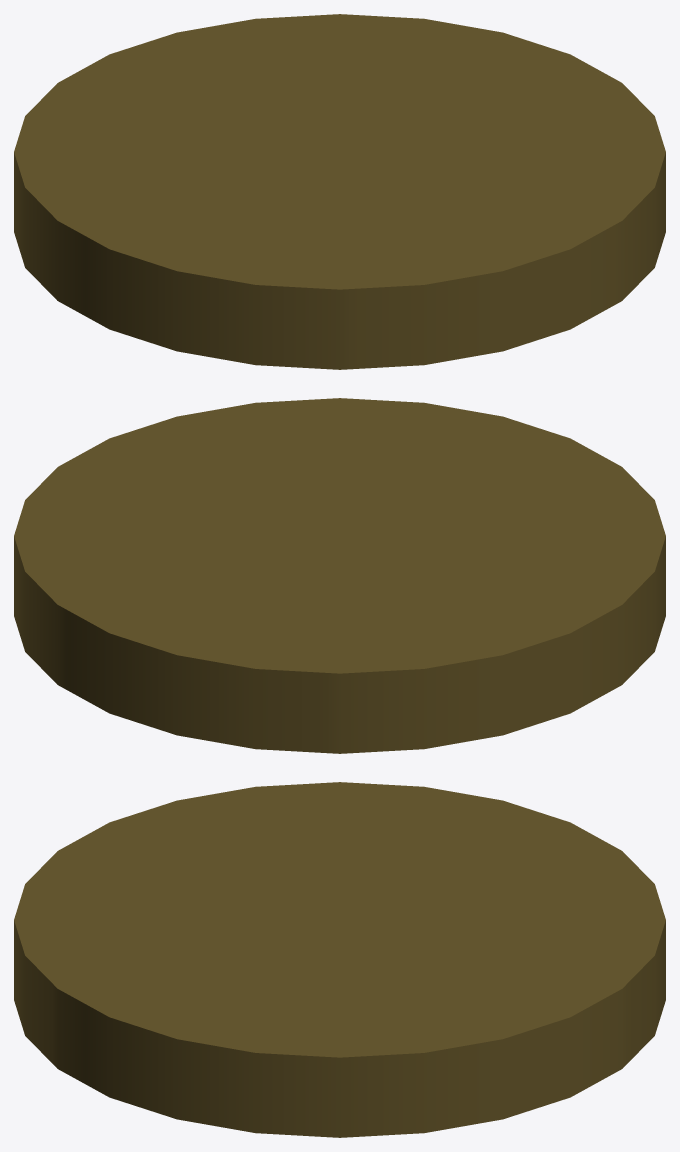
The model's file is original-5.obj.
3 renders of one model, top to bottom at view 1: azimuth 30°, elevation 25°; view 2: azimuth 150°, elevation 25°; view 3: azimuth 270°, elevation 25°, orthographic.
Parts seen in each view (by area): view 1: Group4/mesh14/mesh14-geometry#mesh14-geometry; view 2: Group4/mesh14/mesh14-geometry#mesh14-geometry; view 3: Group4/mesh14/mesh14-geometry#mesh14-geometry.
Part boxes in pixels (<box>): Group4/mesh14/mesh14-geometry#mesh14-geometry: <box>14,14,665,369</box>; Group4/mesh14/mesh14-geometry#mesh14-geometry: <box>14,398,665,753</box>; Group4/mesh14/mesh14-geometry#mesh14-geometry: <box>14,782,665,1137</box>.
Bounding box in the file's own units: 0.072 × 0.00978 × 0.072.
